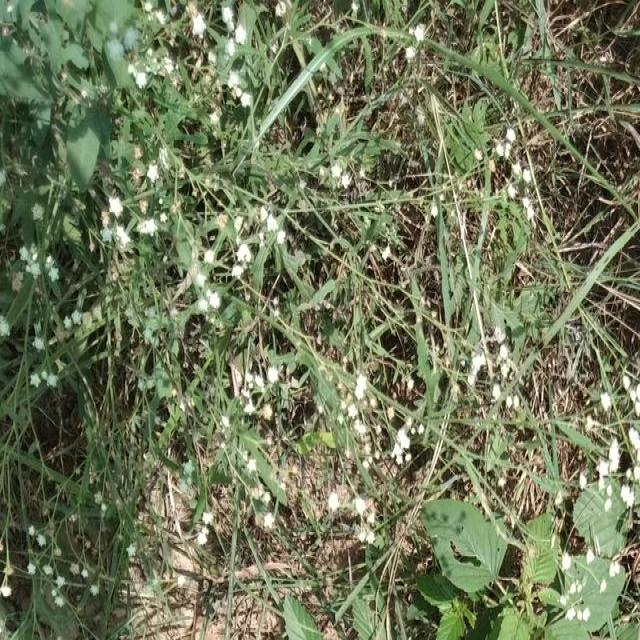weed: (55, 66, 417, 549), (385, 418, 634, 640)
